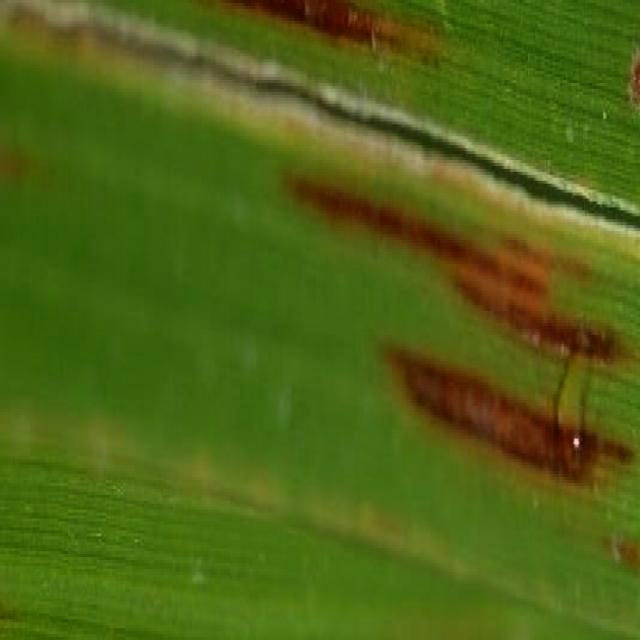Leafsmut: (292, 177, 619, 361), (385, 344, 633, 482), (287, 176, 480, 268), (522, 466, 639, 586), (464, 292, 634, 370), (223, 0, 406, 45), (463, 233, 566, 306), (549, 347, 594, 478), (364, 14, 446, 63), (311, 3, 398, 47), (576, 324, 635, 368), (395, 2, 453, 42), (536, 247, 598, 284), (10, 4, 54, 50), (253, 0, 314, 22), (1, 147, 30, 182), (66, 24, 95, 59), (3, 598, 31, 627), (629, 47, 640, 110), (608, 440, 635, 464), (570, 174, 598, 195), (299, 1, 318, 24), (609, 534, 623, 564), (426, 51, 443, 69), (0, 596, 10, 622), (564, 125, 576, 144), (601, 110, 608, 120)
